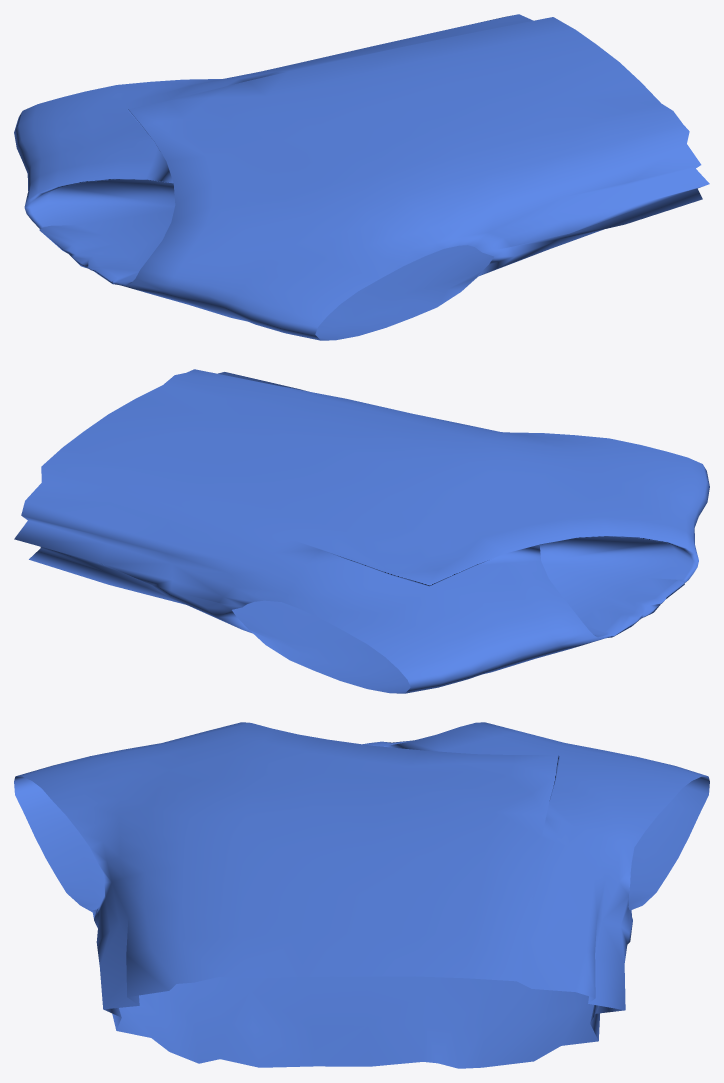
The model's file is surgical_gown.fbx.
The picture shows the model from 3 angles, top to bottom: view 1: azimuth 30°, elevation 25°; view 2: azimuth 150°, elevation 25°; view 3: azimuth 270°, elevation 25°; orthographic projection. The views are drawn at different scales.
Visible parts, largest first — view 1: surg_gown; view 2: surg_gown; view 3: surg_gown.
Boxes of the visible parts, x1,y1,x2,y2 form: surg_gown: [14, 14, 709, 340]; surg_gown: [14, 369, 709, 693]; surg_gown: [14, 722, 709, 1068].
Bounding box in the file's own units: 3294 × 532 × 3102.
